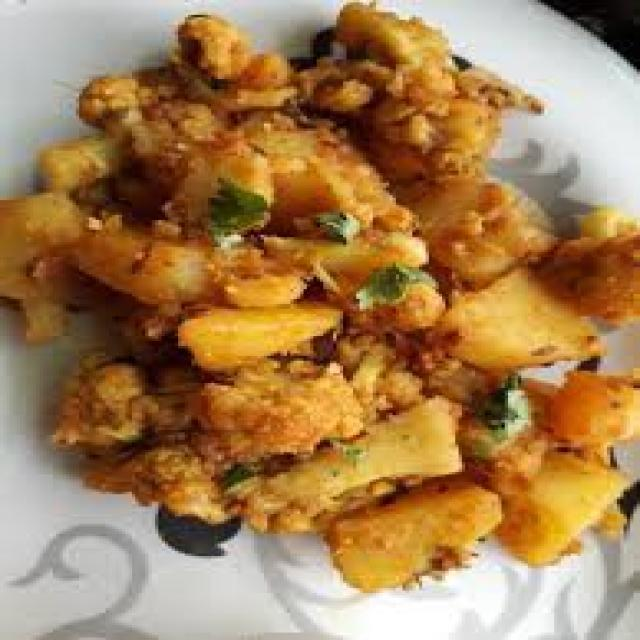aloo_gobi: (3, 5, 634, 583)
